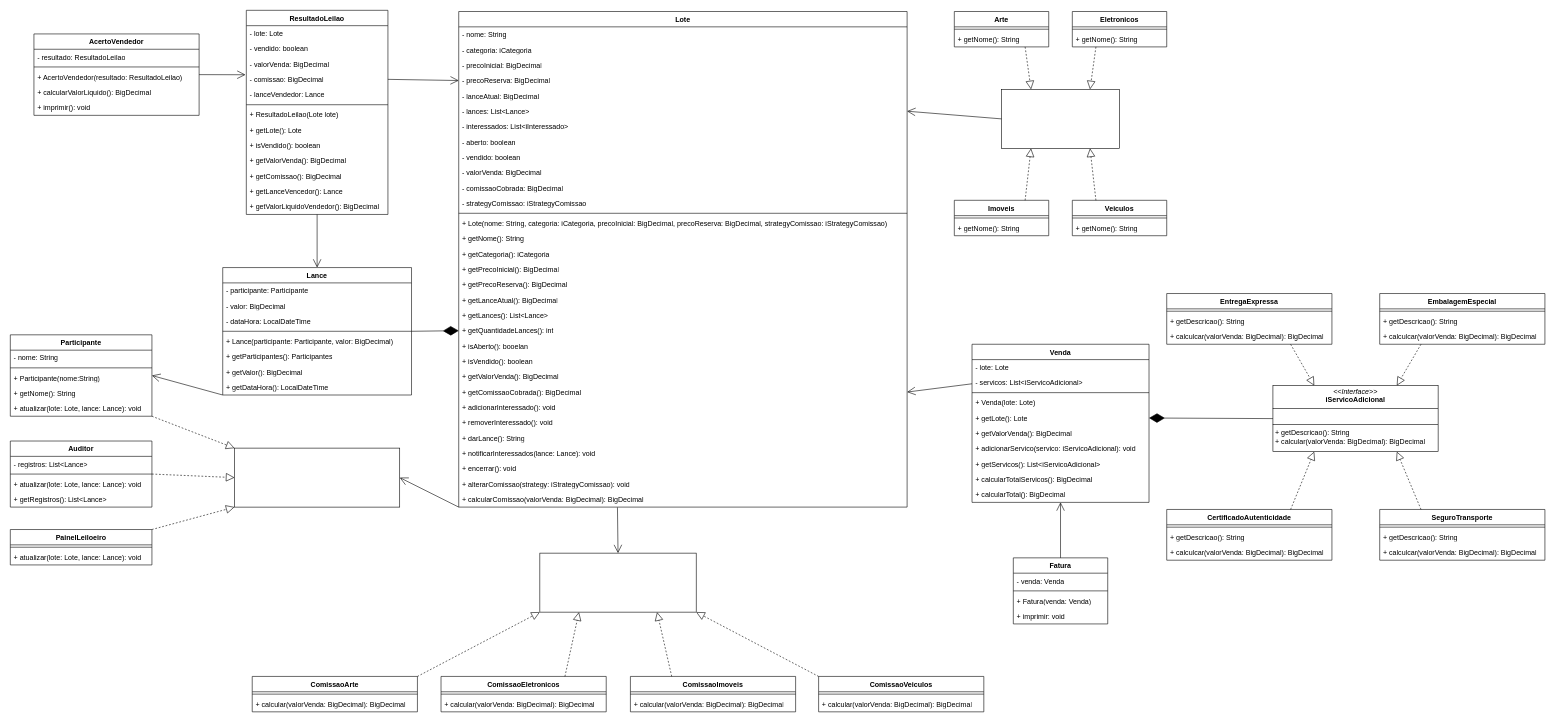
The diagram is 1555 pixels wide and 724 high, and some of its shapes have lost their labels. Each missing label, with the centre of its shape:
"<<Interface>> iCategoria + getNome(): String" goes at (x=1060, y=118).
"<<Interface>> iInteressado + atualizar(lote: Lote, lance: Lance): void" goes at (x=317, y=477).
"<<Interface>> iStrategyComissao + calcular(valorVenda: BigDecimal): BigDecimal" goes at (x=617, y=582).
